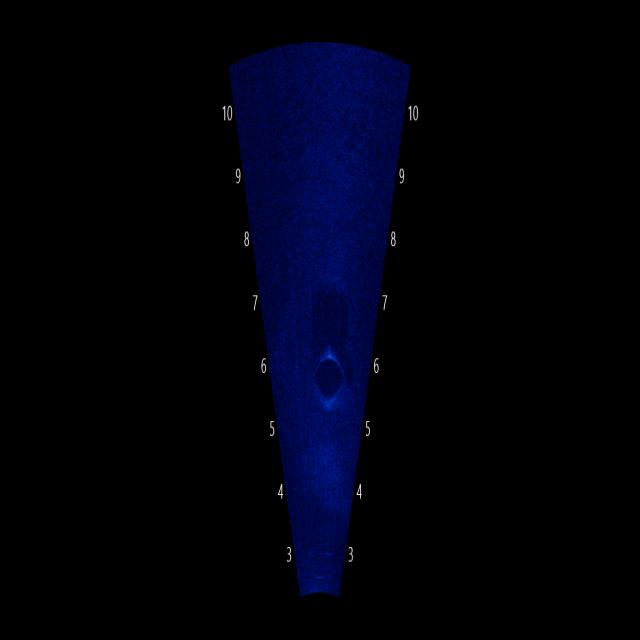circle: (294, 344, 360, 418)
